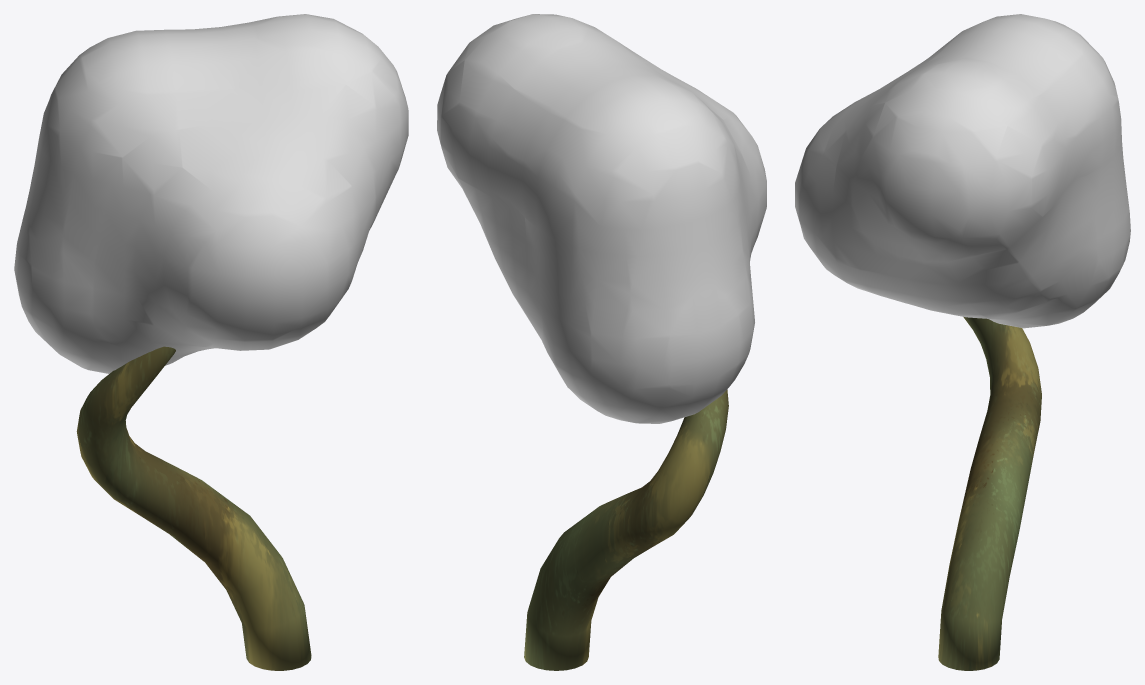
Rendered from mini_tree.fbx.
The picture shows the model from 3 angles, left to right: view 1: azimuth 30°, elevation 25°; view 2: azimuth 150°, elevation 25°; view 3: azimuth 270°, elevation 25°; orthographic projection. The views are drawn at different scales.
Visible parts, largest first — view 1: Cylinder.002; view 2: Cylinder.002; view 3: Cylinder.002.
Part boxes in pixels (x1,y1,x2,y2): Cylinder.002: (14,14,408,670); Cylinder.002: (437,14,766,670); Cylinder.002: (795,14,1130,670).
Bounding box in the file's own units: 622 × 1140 × 584.
